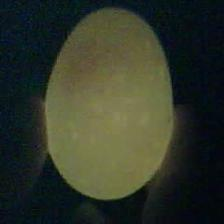infertile: (44, 5, 175, 200)
